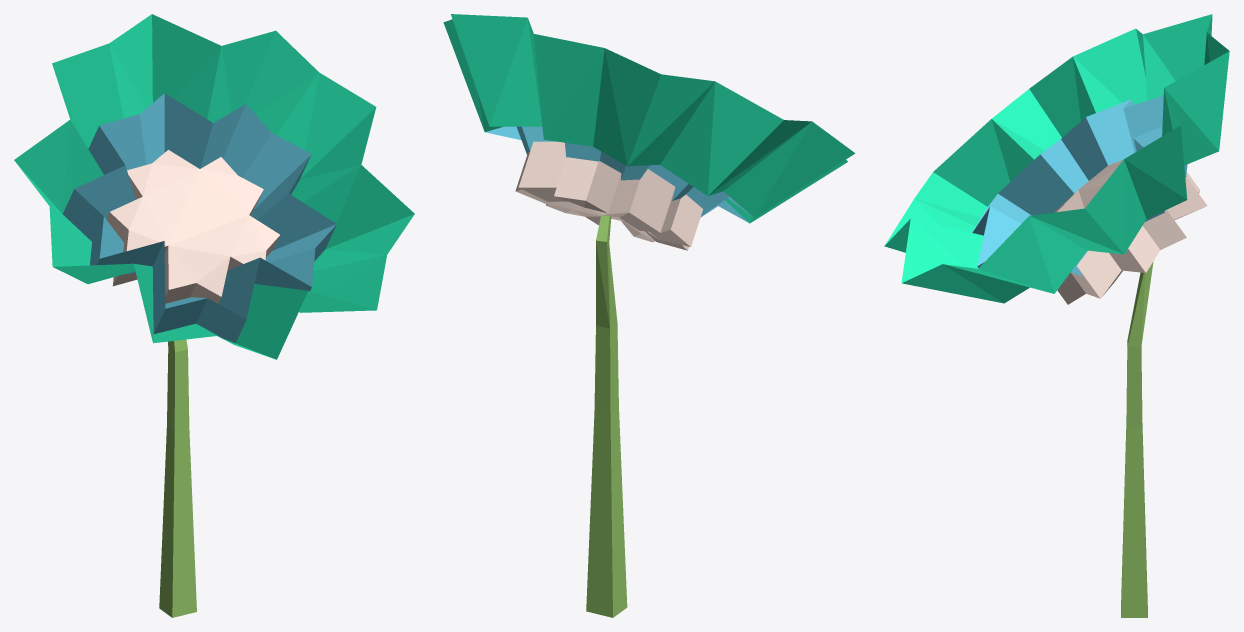
The model's file is flower01_cyan.fbx.
3 renders of one model, left to right at view 1: azimuth 30°, elevation 25°; view 2: azimuth 150°, elevation 25°; view 3: azimuth 270°, elevation 25°, orthographic. The views are drawn at different scales.
Parts seen in each view (by area): view 1: flower01_cyan_LOD0; view 2: flower01_cyan_LOD0; view 3: flower01_cyan_LOD0.
Part boxes in pixels (bbox=[...]): flower01_cyan_LOD0: bbox=[14, 14, 414, 617]; flower01_cyan_LOD0: bbox=[443, 14, 855, 617]; flower01_cyan_LOD0: bbox=[884, 14, 1229, 617].
Size of what is drawn, in the model's own units: 57.01 by 86.48 by 47.41.
